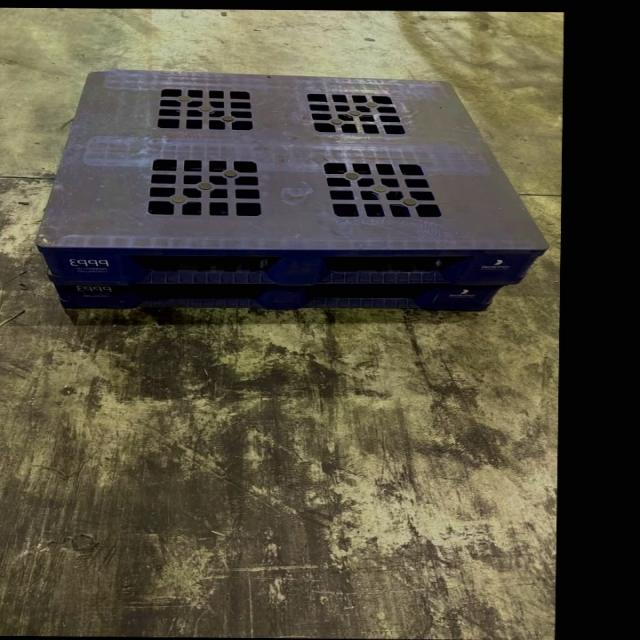non-igps: (31, 67, 553, 315)
